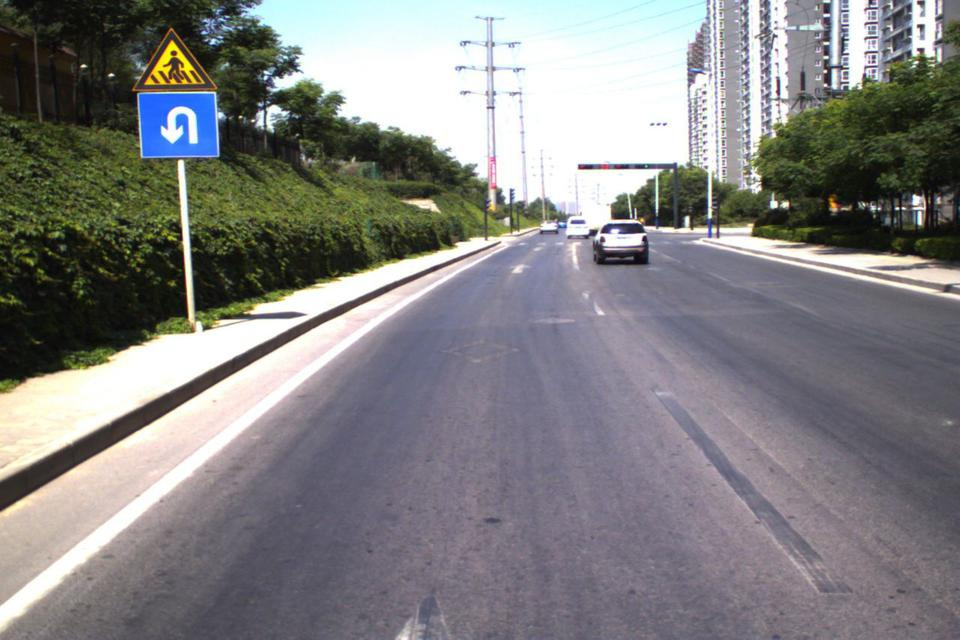AllowUTurn: (141, 93, 219, 158)
